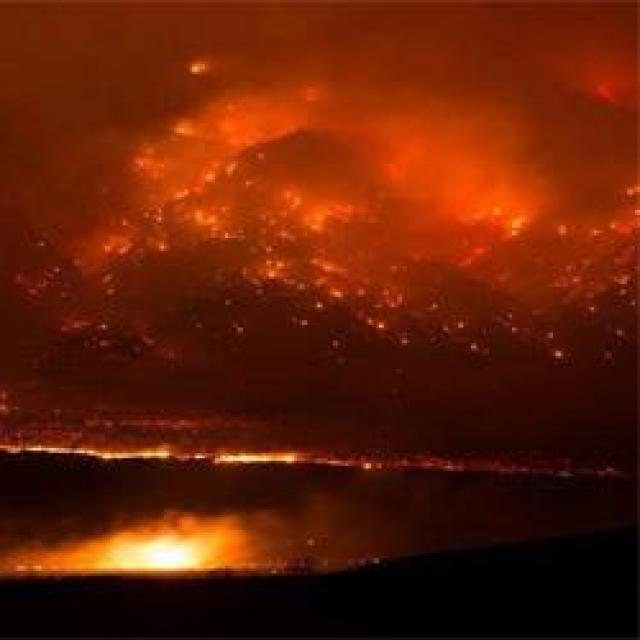fire: (120, 536, 192, 570), (209, 448, 325, 469)
smoke: (425, 94, 566, 216)
